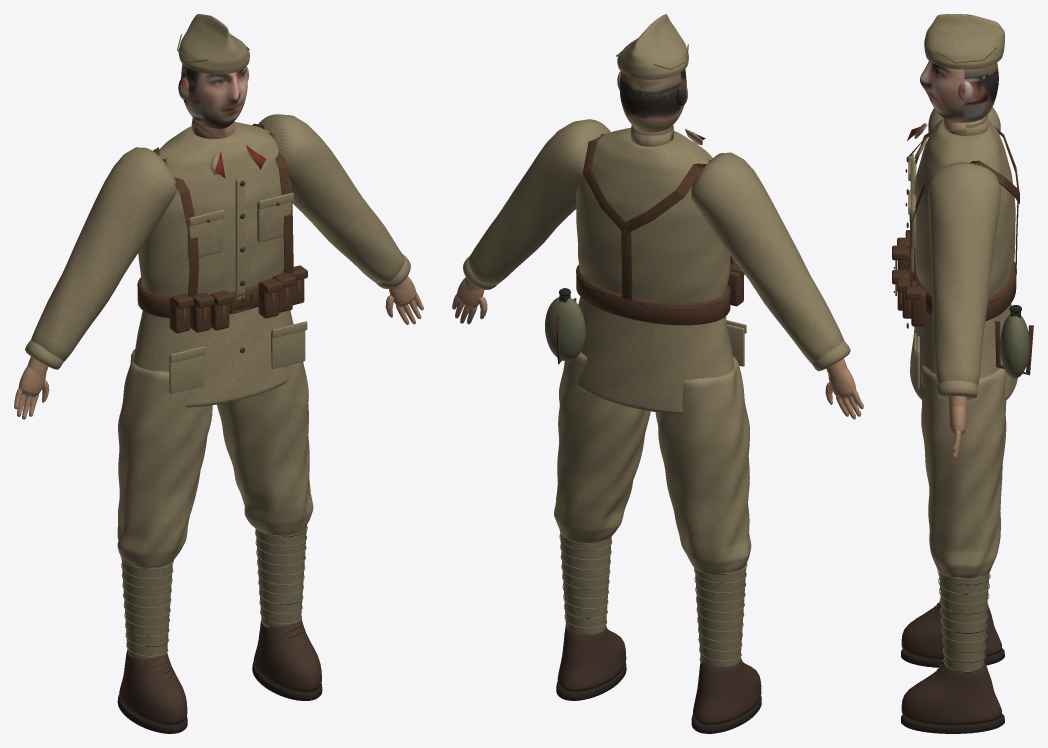
Rendered from turkish_infantry_v01.glb.
3 renders of one model, left to right at view 1: azimuth 30°, elevation 25°; view 2: azimuth 150°, elevation 25°; view 3: azimuth 270°, elevation 25°, orthographic.
Parts seen in each view (by area): view 1: TUR_1939_Infantry_Textured; view 2: TUR_1939_Infantry_Textured; view 3: TUR_1939_Infantry_Textured.
Part boxes in pixels (x1,y1,x2,y2): TUR_1939_Infantry_Textured: [14, 14, 423, 733]; TUR_1939_Infantry_Textured: [452, 14, 863, 733]; TUR_1939_Infantry_Textured: [892, 14, 1033, 733].
Bounding box in the file's own units: 1.12 × 1.77 × 0.336.
1 material, 1 textured.
